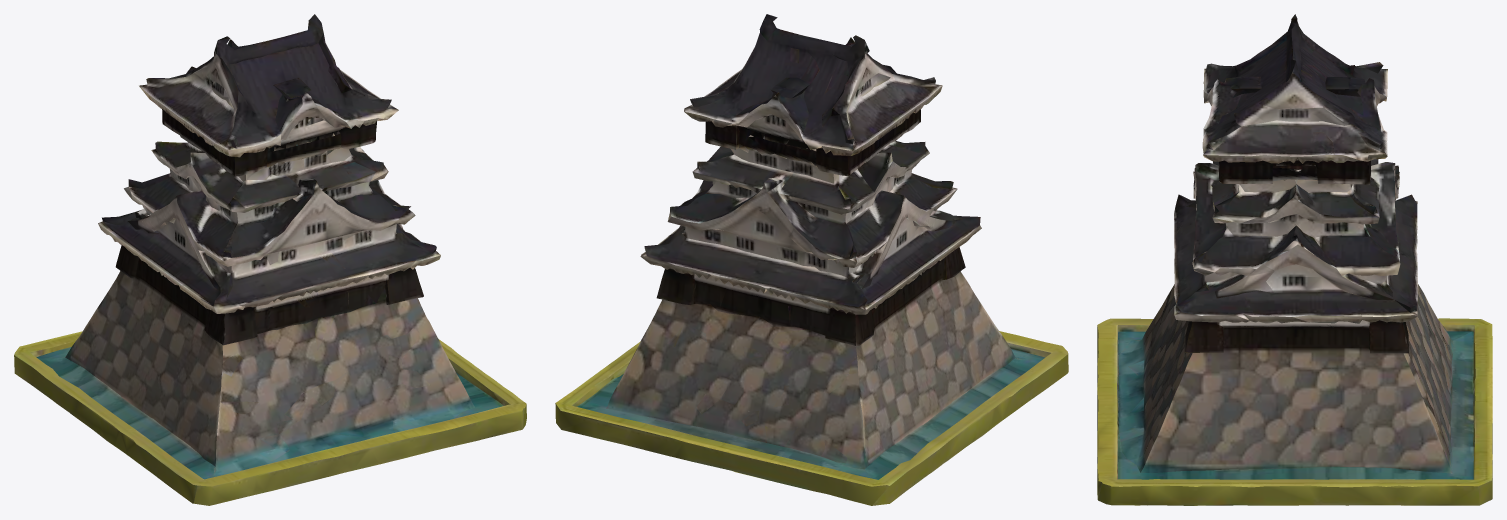
The model's file is kokura-castle.glb.
3 renders of one model, left to right at view 1: azimuth 30°, elevation 25°; view 2: azimuth 150°, elevation 25°; view 3: azimuth 270°, elevation 25°, orthographic. The views are drawn at different scales.
Parts seen in each view (by area): view 1: logan-textured.obj; view 2: logan-textured.obj; view 3: logan-textured.obj.
Part boxes in pixels (<box>): logan-textured.obj: <box>14,14,526,505</box>; logan-textured.obj: <box>555,14,1068,505</box>; logan-textured.obj: <box>1097,14,1492,505</box>.
Bounding box in the file's own units: 0.9377 × 1 × 0.9327.
1 material, 1 textured.
